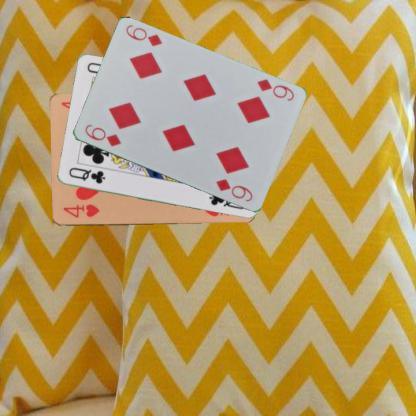4h: (60, 202, 101, 220)
6d: (254, 76, 295, 102), (82, 122, 122, 148)
Qc: (66, 164, 106, 186)
